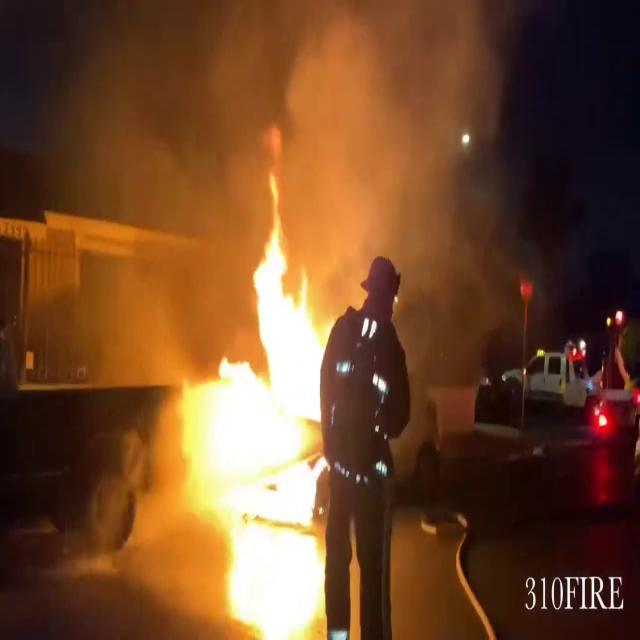Fire: (166, 169, 334, 636)
Smoke: (267, 0, 513, 292)
